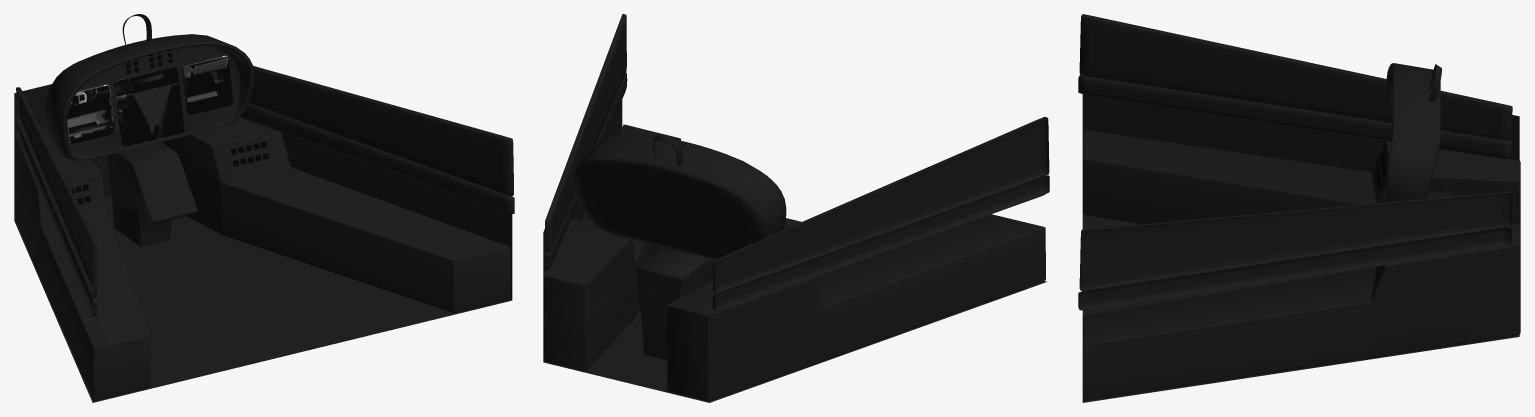
Rendered from Lockheed_Martin_Raptor.fbx.
The picture shows the model from 3 angles, left to right: view 1: azimuth 30°, elevation 25°; view 2: azimuth 150°, elevation 25°; view 3: azimuth 270°, elevation 25°; orthographic projection. The views are drawn at different scales.
Visible parts, largest first — view 1: Joined_Metal, Display_Arrow_Middle, Display_Right, Display_Left; view 2: Joined_Metal; view 3: Joined_Metal.
Boxes of the visible parts, left/top/right/bottom form: Joined_Metal: left=14, top=14, right=514, bottom=402; Display_Arrow_Middle: left=114, top=66, right=184, bottom=146; Display_Right: left=182, top=55, right=233, bottom=114; Display_Left: left=67, top=84, right=115, bottom=143; Joined_Metal: left=543, top=14, right=1049, bottom=402; Joined_Metal: left=1078, top=14, right=1520, bottom=402.
Bounding box in the file's own units: 723 × 353 × 620.
